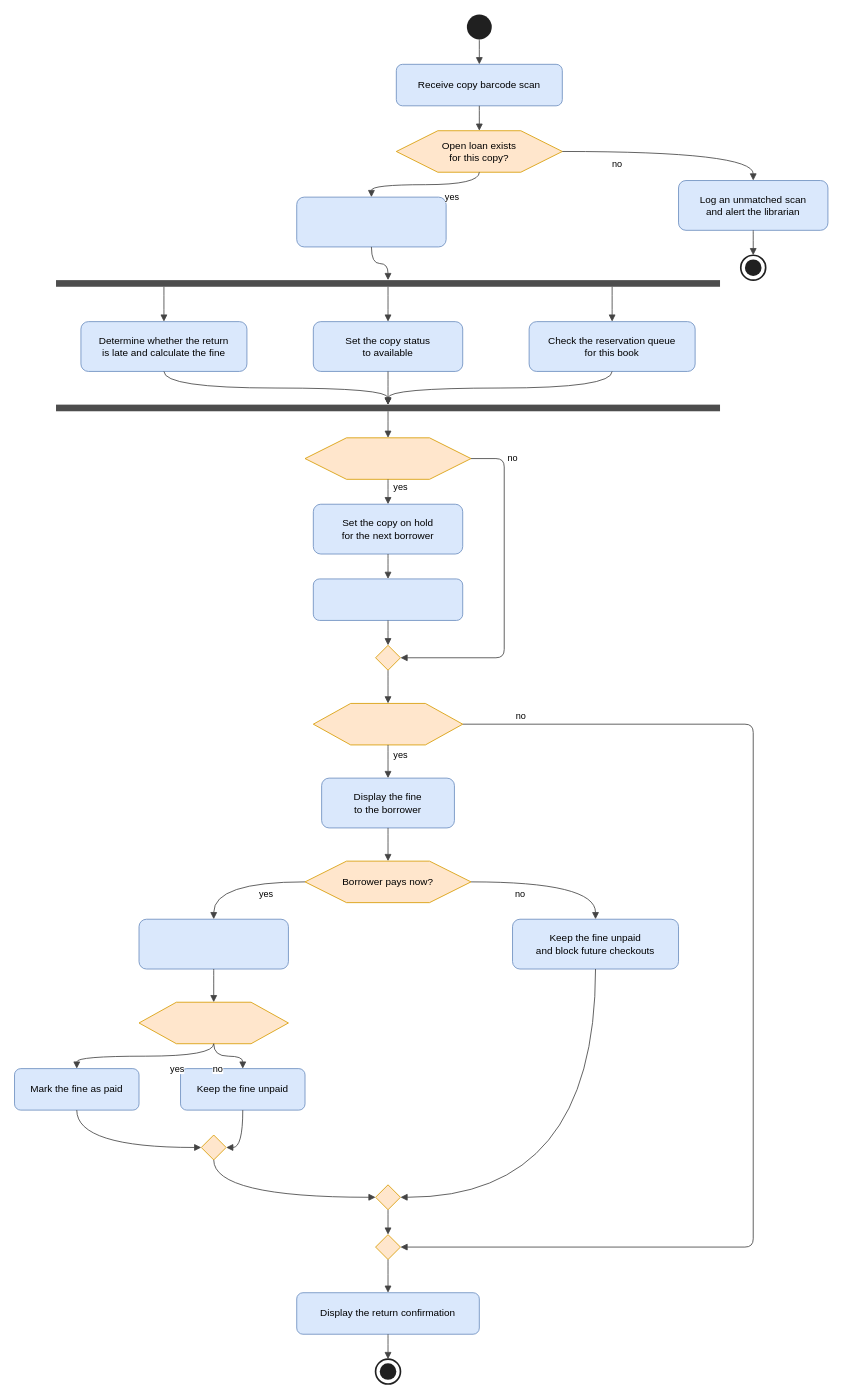
This 842x1399 diagram has some shape labels left out. Each missing label, with the box of its shape:
Close the loan and record the return date: (296, 196, 446, 247)
Fine amount > 0?: (312, 703, 463, 745)
Notify that borrower: (312, 578, 463, 620)
Payment authorised?: (138, 1001, 288, 1044)
Request payment from the payment gateway: (138, 918, 288, 969)
Reservation queue not empty?: (304, 437, 471, 479)
